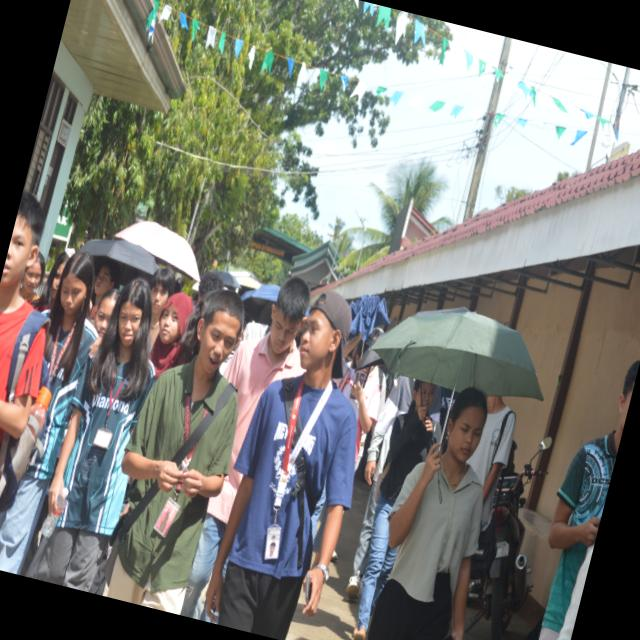person: (206, 292, 356, 639), (182, 277, 310, 618), (109, 291, 244, 614), (35, 279, 155, 589), (0, 253, 97, 573), (369, 388, 487, 639), (539, 362, 639, 639), (353, 381, 435, 639), (0, 191, 45, 445), (468, 397, 515, 532), (150, 293, 192, 377), (35, 252, 68, 312), (150, 267, 175, 346), (90, 259, 121, 320), (20, 253, 45, 306), (195, 271, 224, 306)
